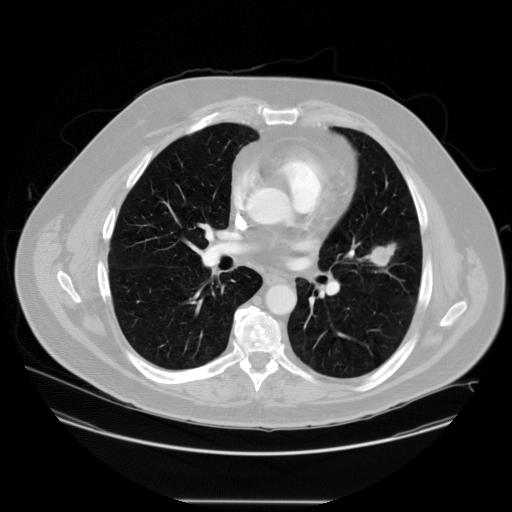nodule: (367, 241, 395, 269)
